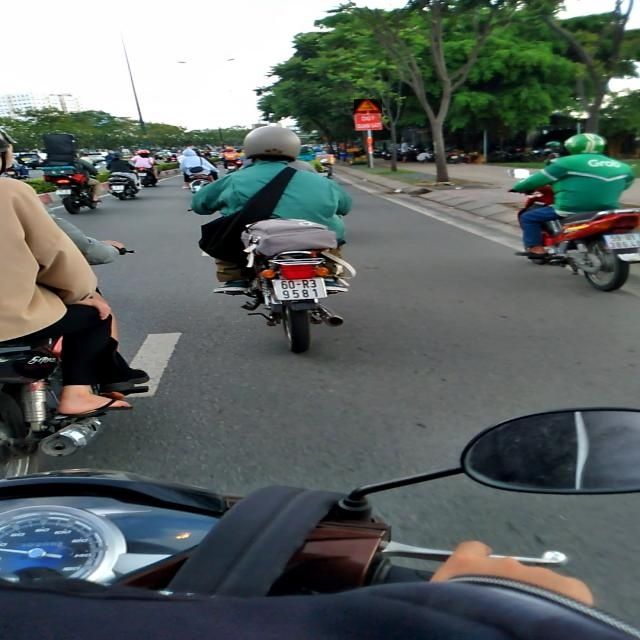bien_nguy_hiem: (354, 100, 382, 114)
